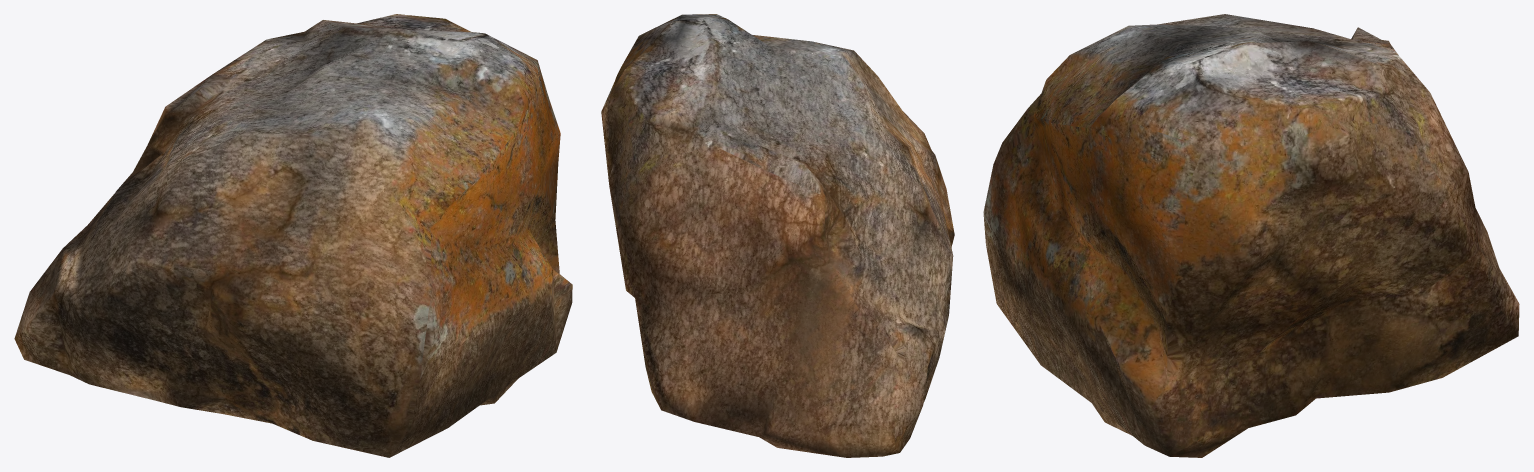
Rendered from namaqualand_boulder_04.glb.
3 views of the same model, side by side, from view 1: azimuth 30°, elevation 25°; view 2: azimuth 150°, elevation 25°; view 3: azimuth 270°, elevation 25° (orthographic). The views are drawn at different scales.
Parts seen in each view (by area): view 1: boulder_04; view 2: boulder_04; view 3: boulder_04.
Boxes of the visible parts, left/top/right/bottom form: boulder_04: left=14, top=14, right=572, bottom=457; boulder_04: left=601, top=14, right=954, bottom=457; boulder_04: left=983, top=14, right=1519, bottom=457.
Size of the model in its own units: 2.51 by 1.86 by 2.47.
1 material, 1 textured.
